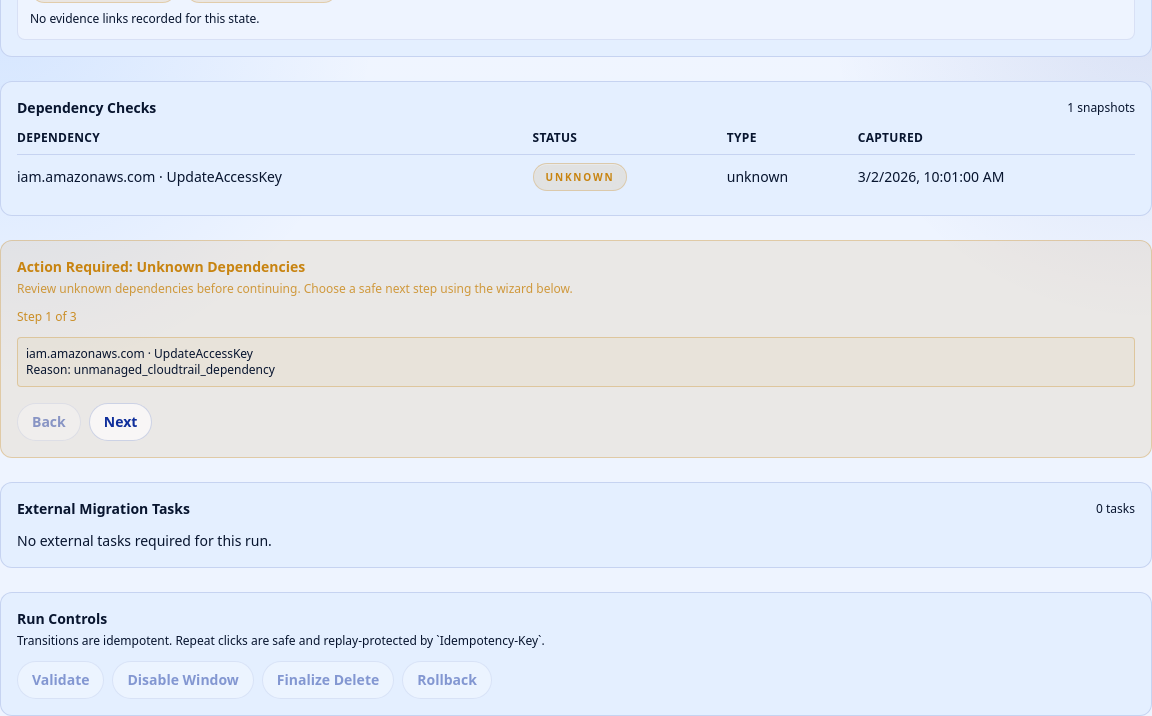
it: RootKeyRemediationLifecycle › enforces read-only auth boundary for non-admin users
The width and height of the screenshot is (1152, 716).
(page scrolled)
Expected: the button "Rollback" is disabled, [402,661,492,699]
Click the button "Next": (121, 422) [89,403,152,441]
(page scrolled)
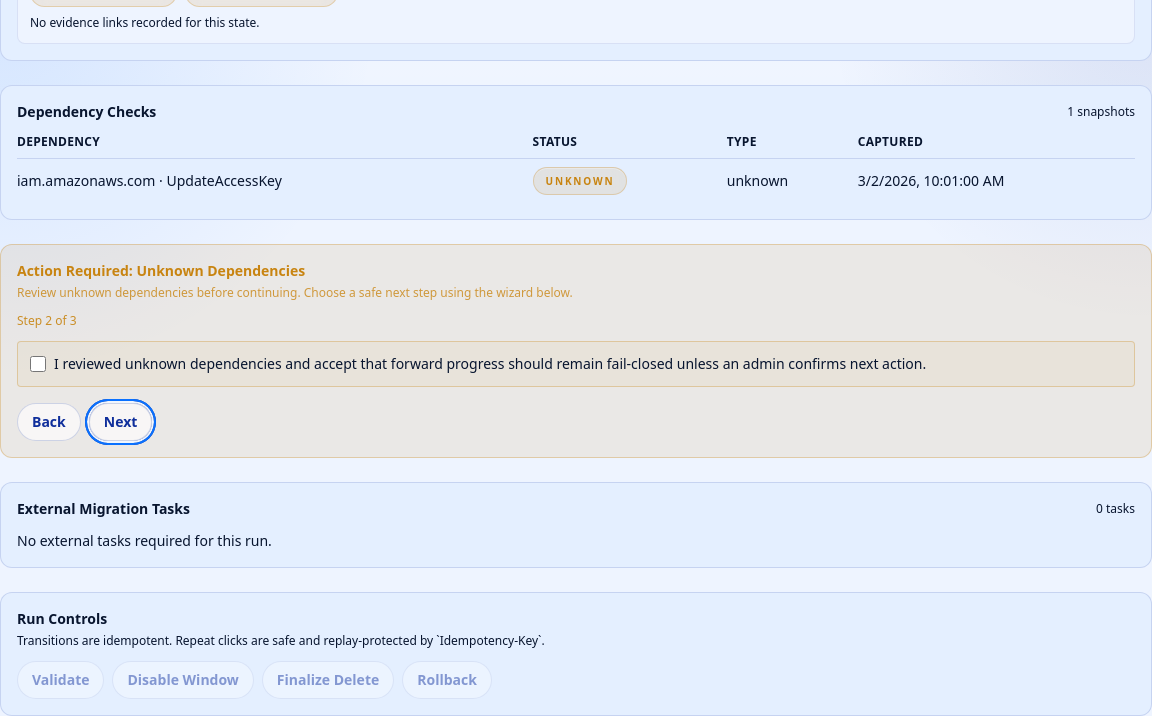
Click the button "Next": (121, 422) [89,403,152,441]
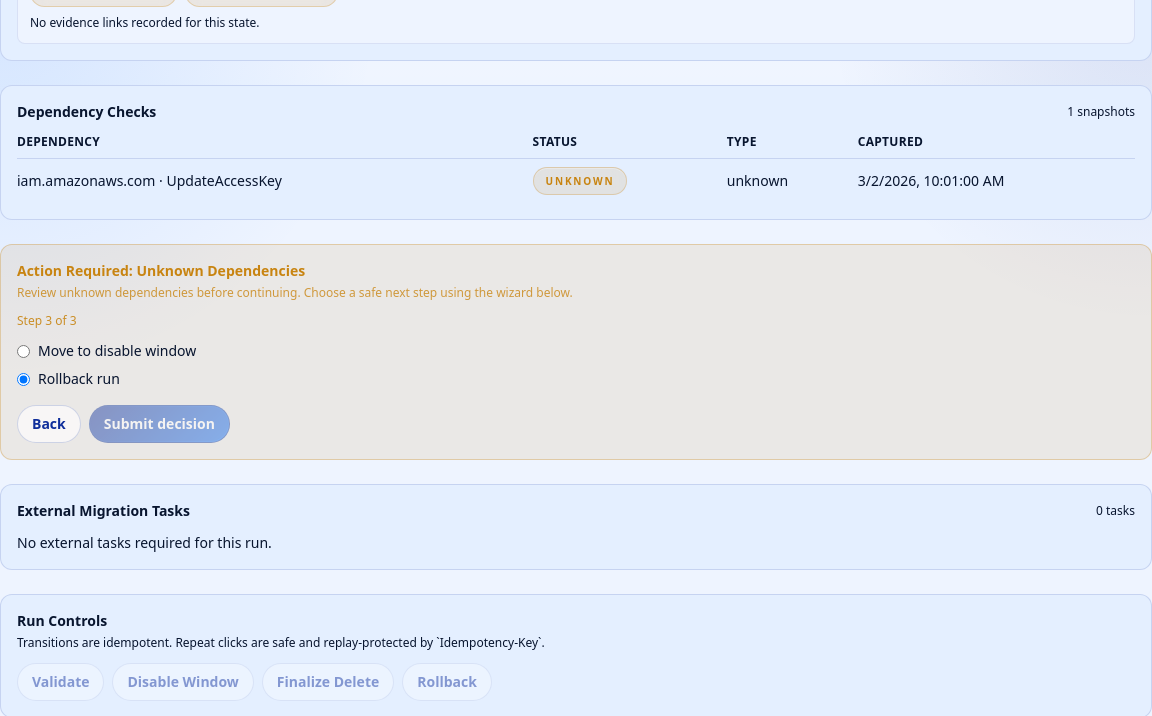
Now the button "Submit decision" is disabled, box [89,405,230,443]
